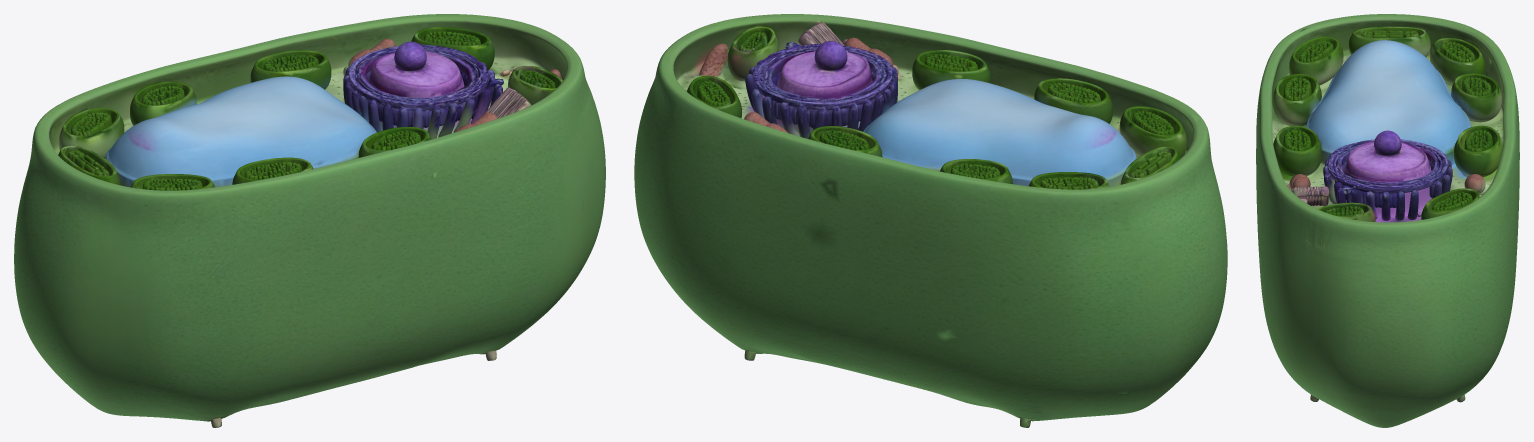
File: plant-cell-1.glb
3 renders of one model, left to right at view 1: azimuth 30°, elevation 25°; view 2: azimuth 150°, elevation 25°; view 3: azimuth 270°, elevation 25°, orthographic. The views are drawn at different scales.
Parts seen in each view (by area): view 1: node_0; view 2: node_0; view 3: node_0.
Part boxes in pixels (left/top/right/bottom): node_0: left=14, top=14, right=605, bottom=427; node_0: left=634, top=14, right=1227, bottom=427; node_0: left=1256, top=14, right=1519, bottom=427.
Bounding box in the file's own units: 1.2 × 0.6149 × 0.5725.
1 material, 1 textured.
